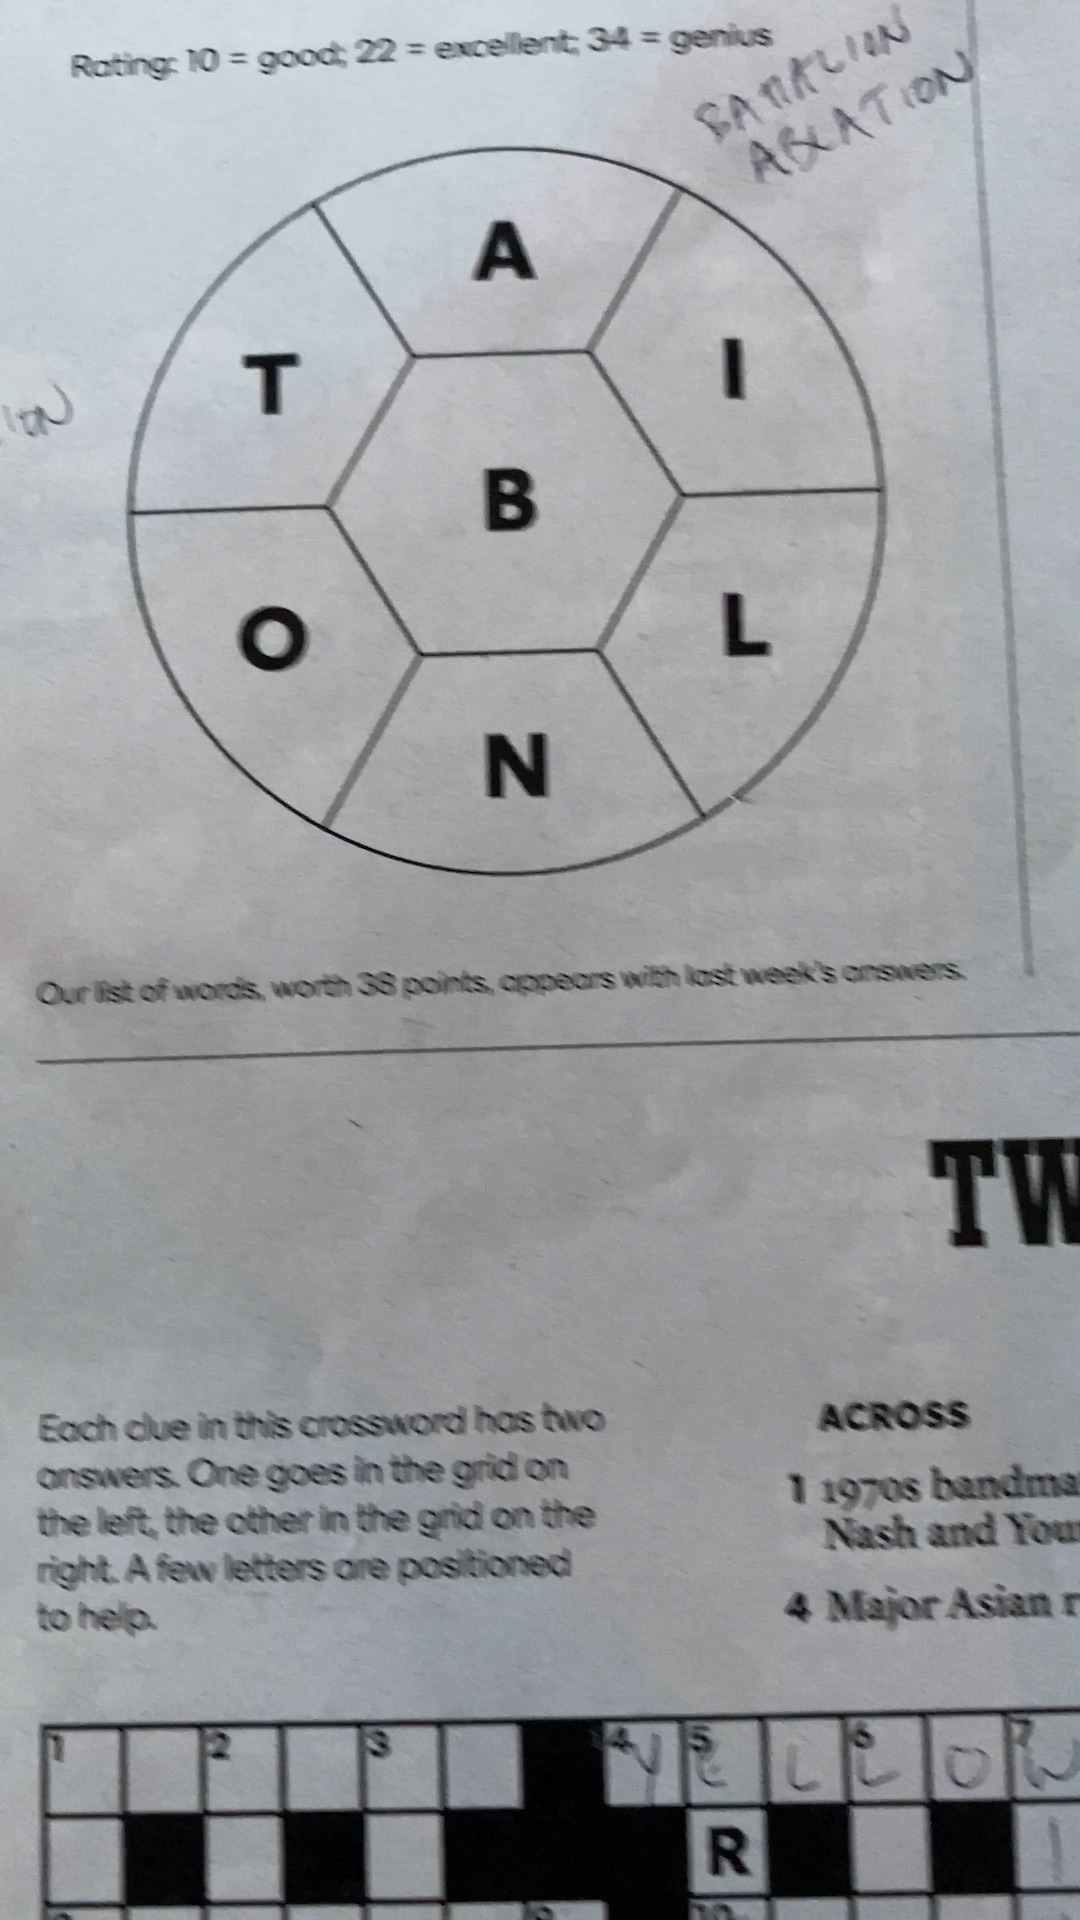Board: (109, 138, 899, 894)
